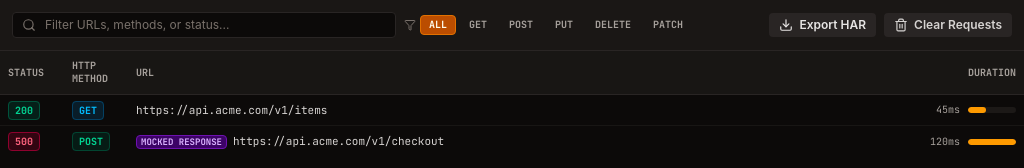
Test: Network Mock Inspector & Request Waterfall Components › renders RequestWaterfallView with captured HTTP requests and filters them
Check: the text "https://api.acme.com/v1/items" is shown, box [136,103,327,117]
Check: the text "https://api.acme.com/v1/checkout" is shown, box [233,134,444,149]
Search filter
Type "checkout" into the field with placeholder "Filter URLs, methods, or status..." at (204, 25), box [12,12,396,38]
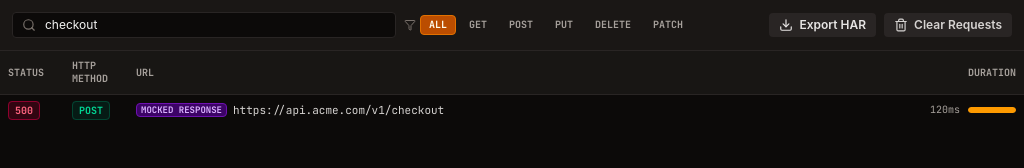
Check: the text "https://api.acme.com/v1/checkout" is shown, box [233,103,444,117]
Check: the text "https://api.acme.com/v1/items" is gone
